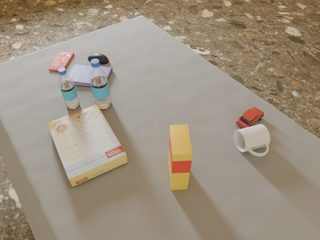book: (68, 63, 112, 87)
bottle: (90, 59, 111, 109), (58, 67, 79, 109)
box: (47, 105, 127, 187), (169, 125, 192, 190)
cup: (234, 124, 270, 156)
mouse: (88, 53, 109, 64)
phone: (49, 52, 74, 71)
toy_car: (236, 107, 264, 129)
